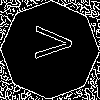V: (25, 25, 72, 60)
